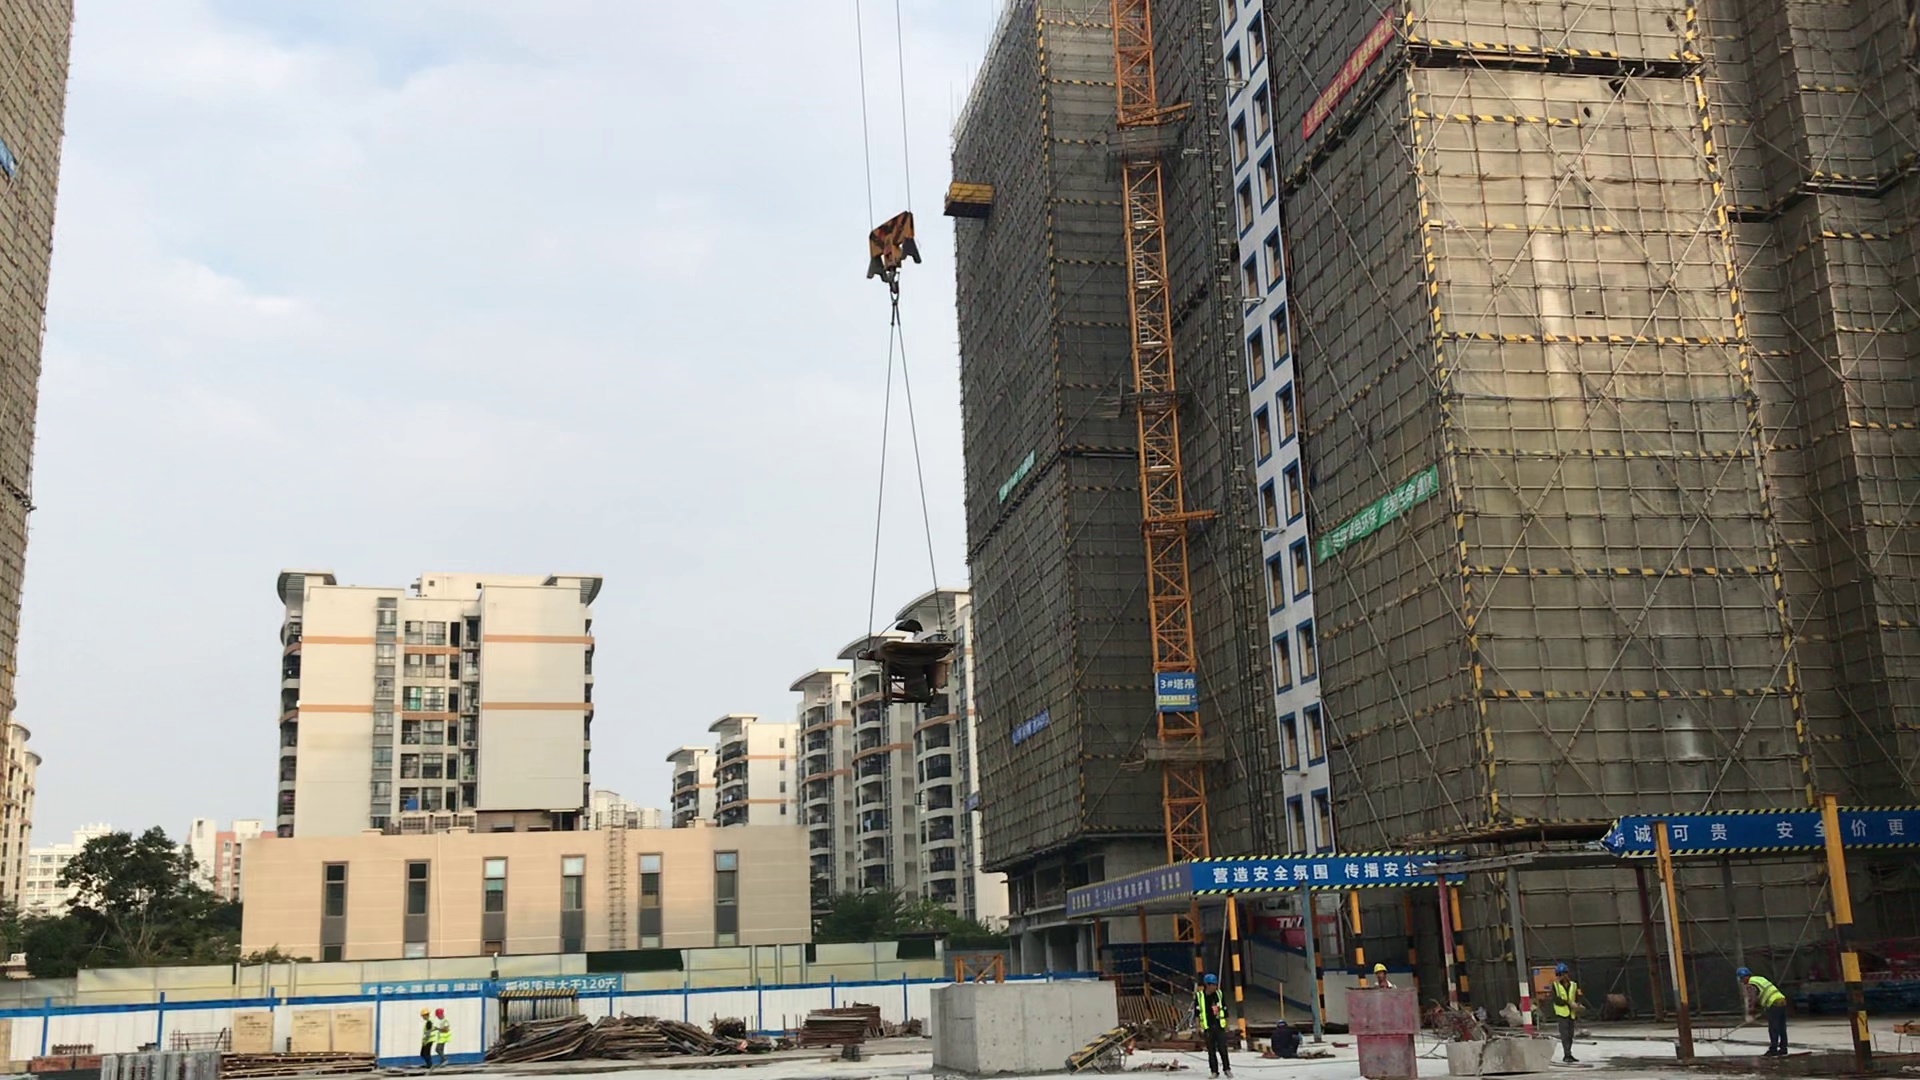helmet: (1734, 966, 1754, 977), (1372, 962, 1389, 973), (1553, 962, 1571, 973), (1202, 974, 1218, 984), (435, 1008, 445, 1018), (419, 1008, 430, 1015)
person: (1728, 963, 1807, 1056), (1187, 972, 1252, 1080), (1539, 960, 1594, 1065), (415, 1008, 438, 1071), (434, 1007, 456, 1066), (1365, 959, 1403, 992)
vest: (1196, 993, 1227, 1030), (1748, 978, 1789, 1005), (1551, 981, 1579, 1019), (421, 1021, 432, 1045), (438, 1021, 450, 1044)
